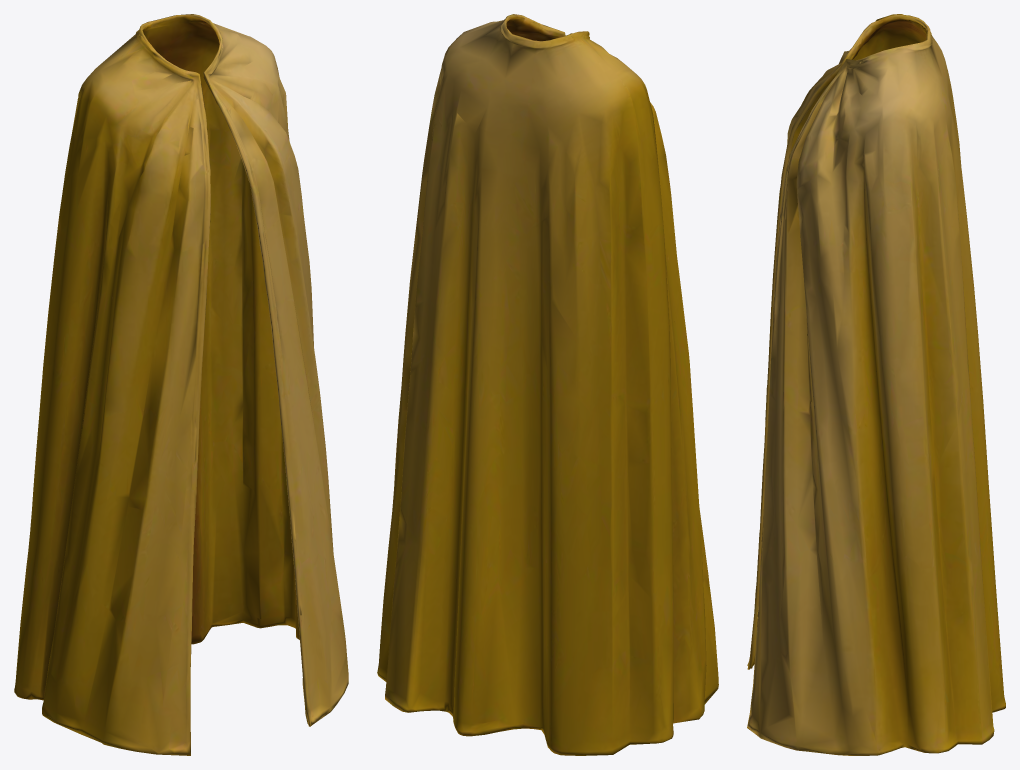
File: capa.glb
The picture shows the model from 3 angles, left to right: view 1: azimuth 30°, elevation 25°; view 2: azimuth 150°, elevation 25°; view 3: azimuth 270°, elevation 25°; orthographic projection. The views are drawn at different scales.
Bounding box in the file's own units: 0.389 × 0.8557 × 0.3002.
Materials: 1 (1 with a texture image).
